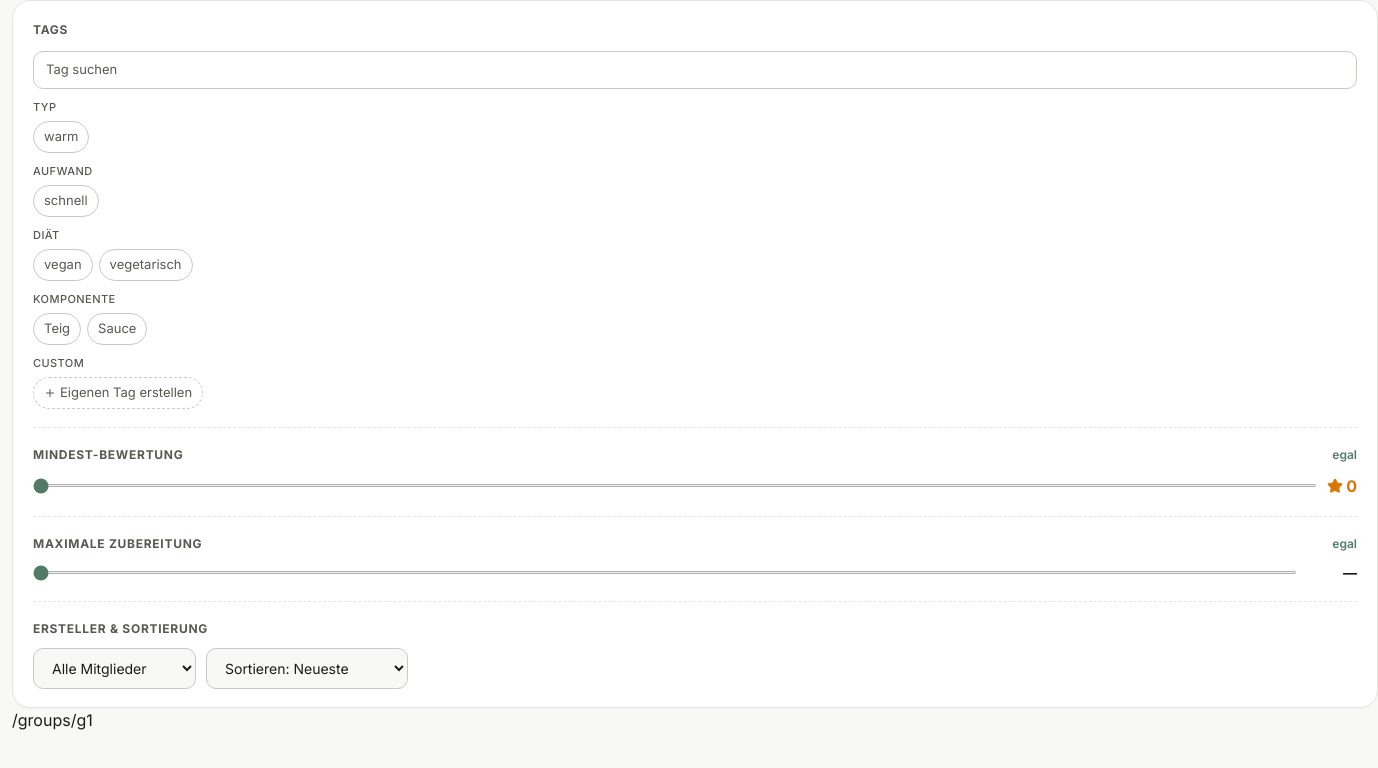
Test case: RecipeFilterPanel › clicking a Komponente chip toggles the tag in the URL
The width and height of the screenshot is (1378, 768).
Click the button "Teig" at (57, 329), box [33, 313, 81, 344]
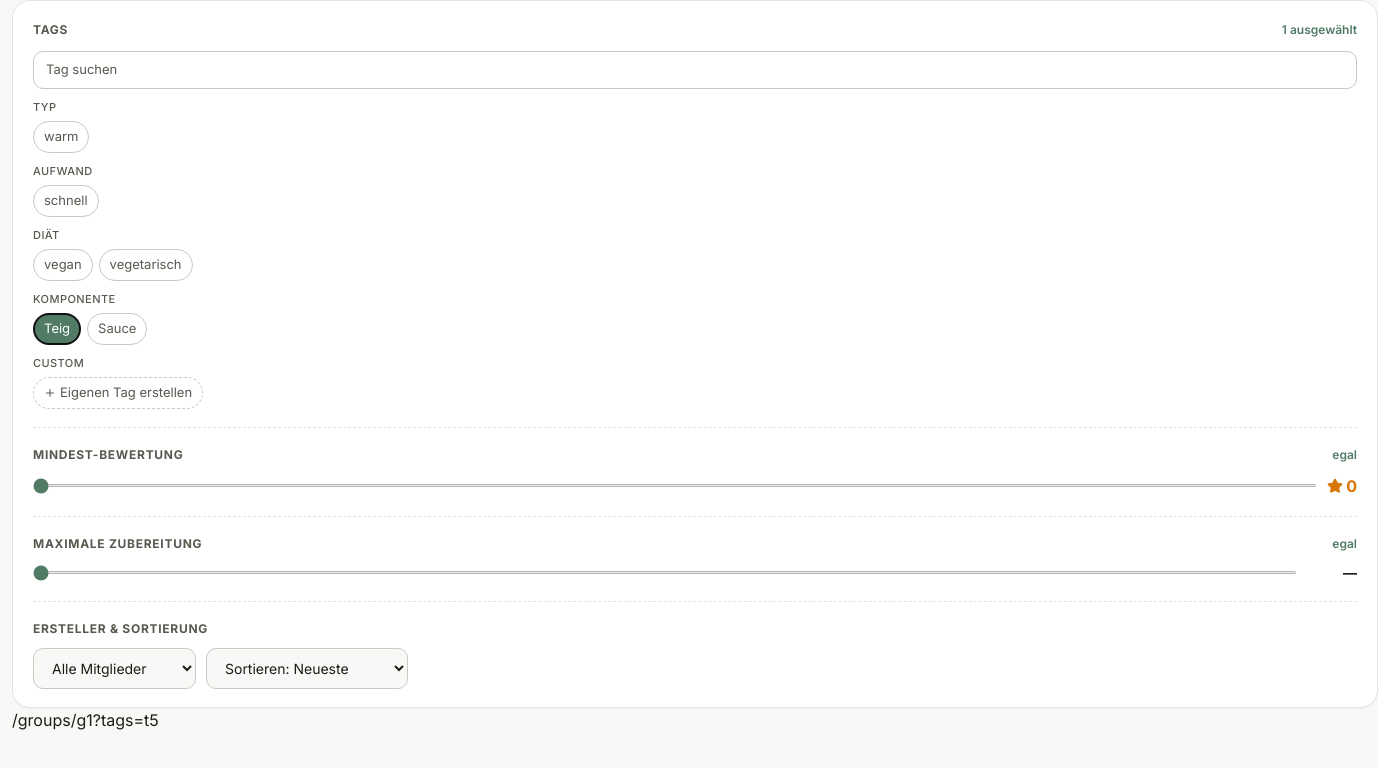
Expected: the text with test id "location-probe" shows "tags=t5", [93, 710, 159, 730]
